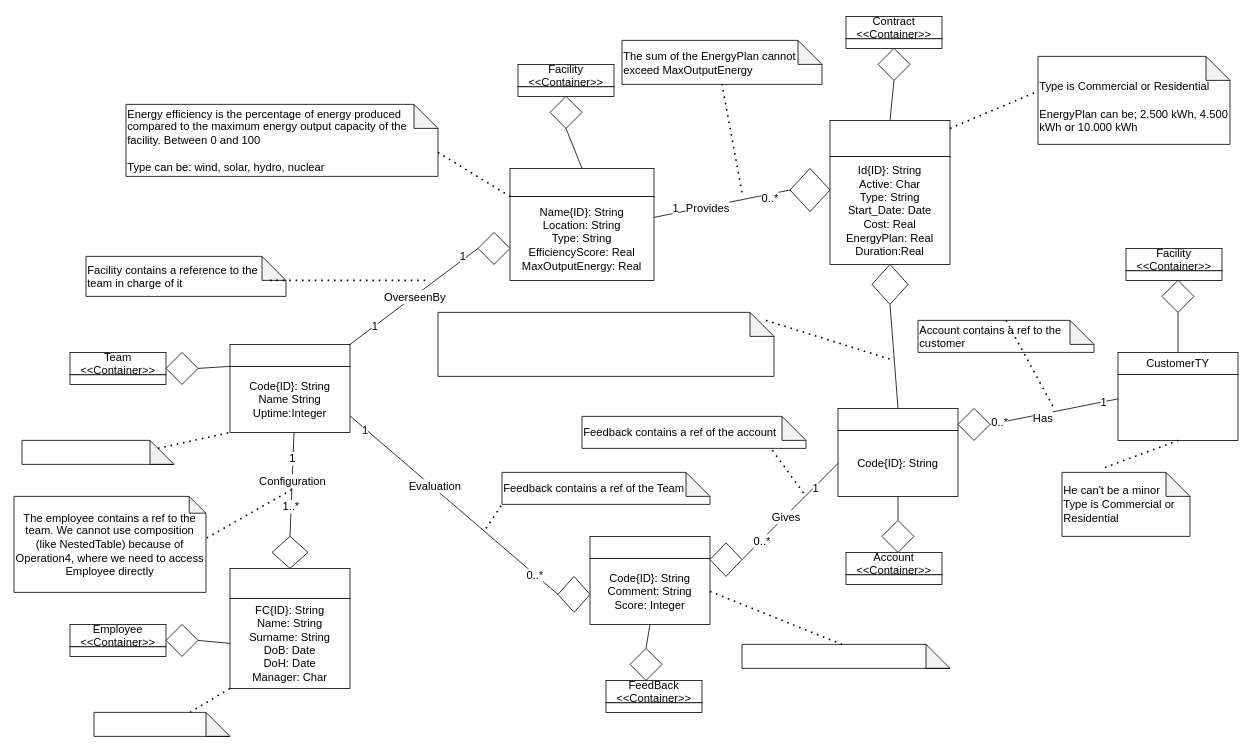
The diagram is 1252 pixels wide and 751 high, and some of its shapes have lost their labels. Each missing label, with the centre of its shape:
"AccountTY" belongs at (x=897, y=419).
"Code{ID}: String Name: String Surname: String Email: String Type: String" belongs at (x=1177, y=407).
"ContractTY" belongs at (x=889, y=138).
"EmployeeTY" belongs at (x=289, y=583).
"FacilityTY" belongs at (x=581, y=182).
"FeedbackTY" belongs at (x=649, y=547).
"He can't be a minor DoH > DoB" belongs at (x=161, y=724).
"Score is a number between 0 and 5" belongs at (x=845, y=656).
"TeamTY" belongs at (x=289, y=355).
"The customer associated to the account and the contract must be of the same type" belongs at (x=605, y=344).
"Uptime betweer 6 and 8" belongs at (x=97, y=452).
